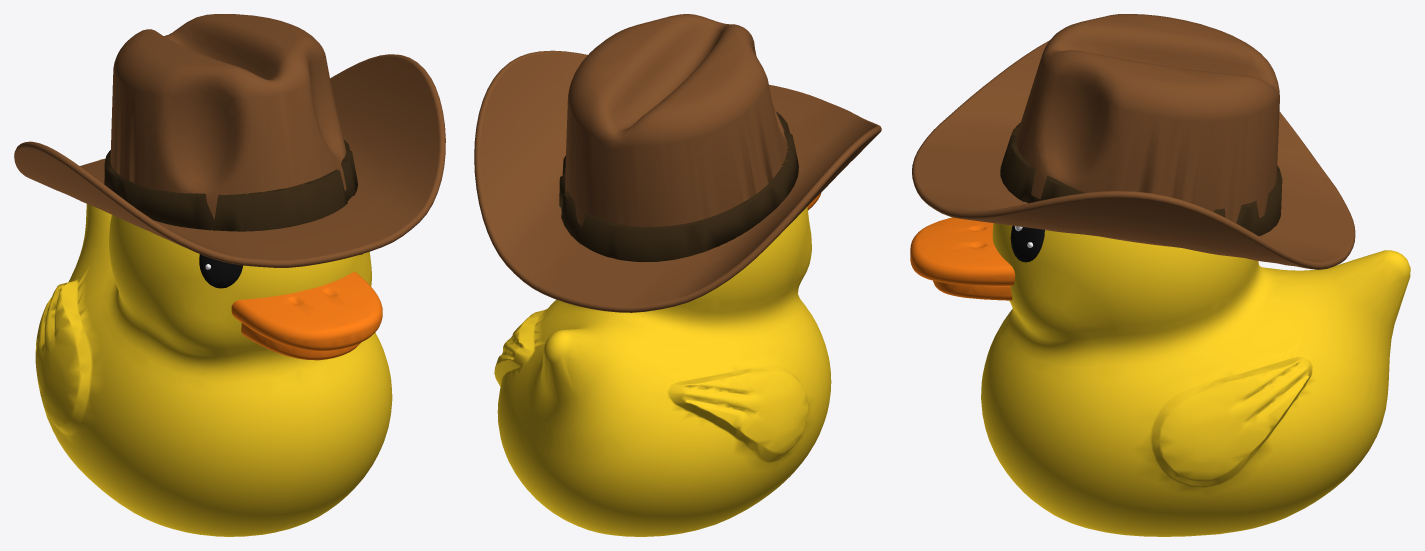
Rendered from duck_city.glb.
The picture shows the model from 3 angles, left to right: view 1: azimuth 30°, elevation 25°; view 2: azimuth 150°, elevation 25°; view 3: azimuth 270°, elevation 25°; orthographic projection. The views are drawn at different scales.
Visible parts, largest first — view 1: duck_city; view 2: duck_city; view 3: duck_city.
Boxes of the visible parts, <box> form: duck_city: <box>14,14,445,536</box>; duck_city: <box>474,14,881,536</box>; duck_city: <box>910,14,1410,536</box>.
Size of the model in its own units: 0.1712 by 0.2067 by 0.2019.
